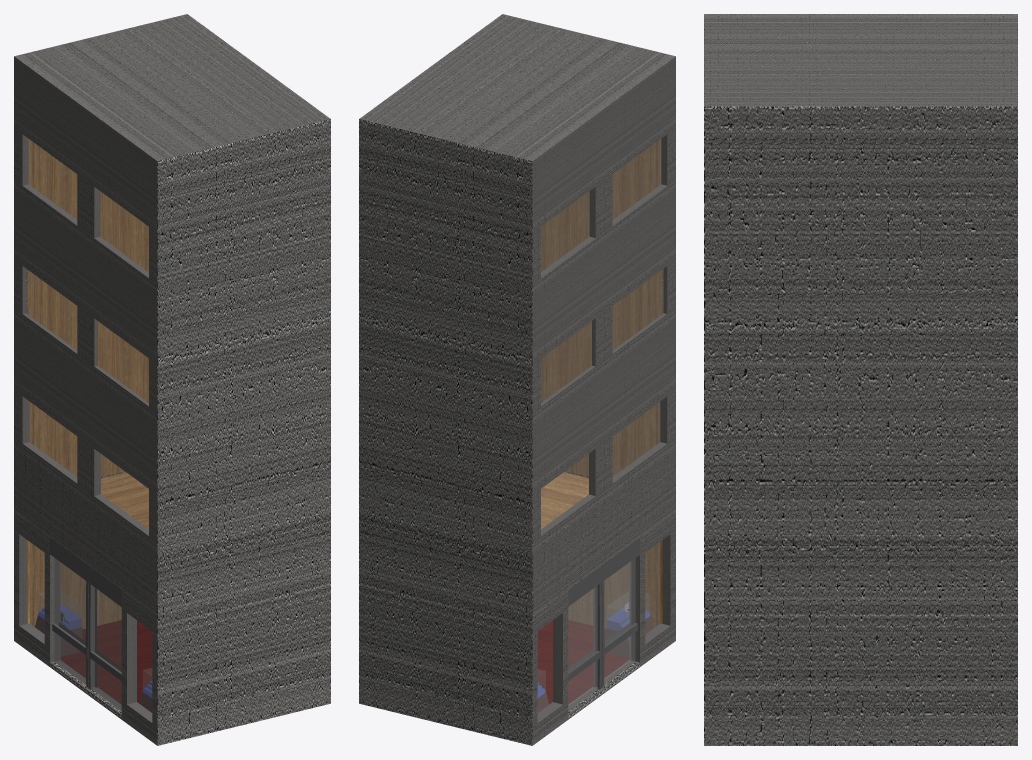
The model's file is greybuilding.fbx.
The picture shows the model from 3 angles, left to right: view 1: azimuth 30°, elevation 25°; view 2: azimuth 150°, elevation 25°; view 3: azimuth 270°, elevation 25°; orthographic projection. The views are drawn at different scales.
Parts seen in each view (by area): view 1: pasted__buildingone, insidewall, building:insidewall, building:door, building:door1, building:countertop; view 2: pasted__buildingone, insidewall, building:insidewall, building:door1, building:door; view 3: pasted__buildingone.
Boxes of the visible parts, x1,y1,x2,y2 form: pasted__buildingone: (14,14,330,745); insidewall: (27,139,148,476); building:insidewall: (27,472,148,628); building:door: (52,558,88,688); building:door1: (88,583,121,710); building:countertop: (35,593,82,656); pasted__buildingone: (359,14,675,745); insidewall: (541,139,662,476); building:insidewall: (541,472,662,628); building:door1: (601,558,637,687); building:door: (568,583,602,710); pasted__buildingone: (704,14,1017,745).
Size of the model in its own units: 374 by 1206 by 536.
